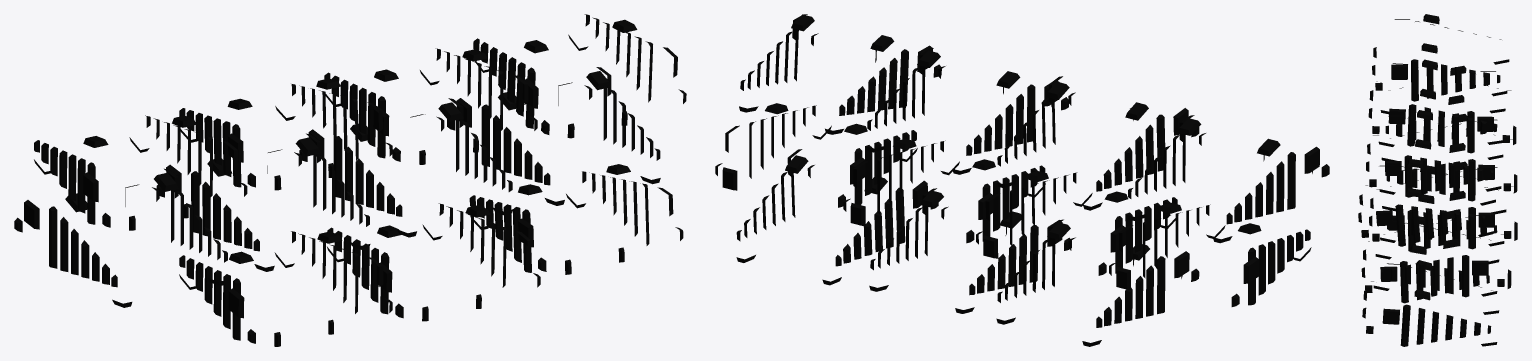
File: prop_static_tan_container_01_01.glb
3 views of the same model, side by side, from view 1: azimuth 30°, elevation 25°; view 2: azimuth 150°, elevation 25°; view 3: azimuth 270°, elevation 25° (orthographic). The views are drawn at different scales.
Parts seen in each view (by area): view 1: tan_container_01_01_LOD0; view 2: tan_container_01_01_LOD0; view 3: tan_container_01_01_LOD0.
Part boxes in pixels (x1=…): tan_container_01_01_LOD0: x1=14, y1=14, x2=686, y2=346; tan_container_01_01_LOD0: x1=715, y1=14, x2=1329, y2=346; tan_container_01_01_LOD0: x1=1358, y1=14, x2=1517, y2=346.
Size of what is drawn, in the model's own units: 9.56 by 3.72 by 3.34.
1 material, 1 textured.
